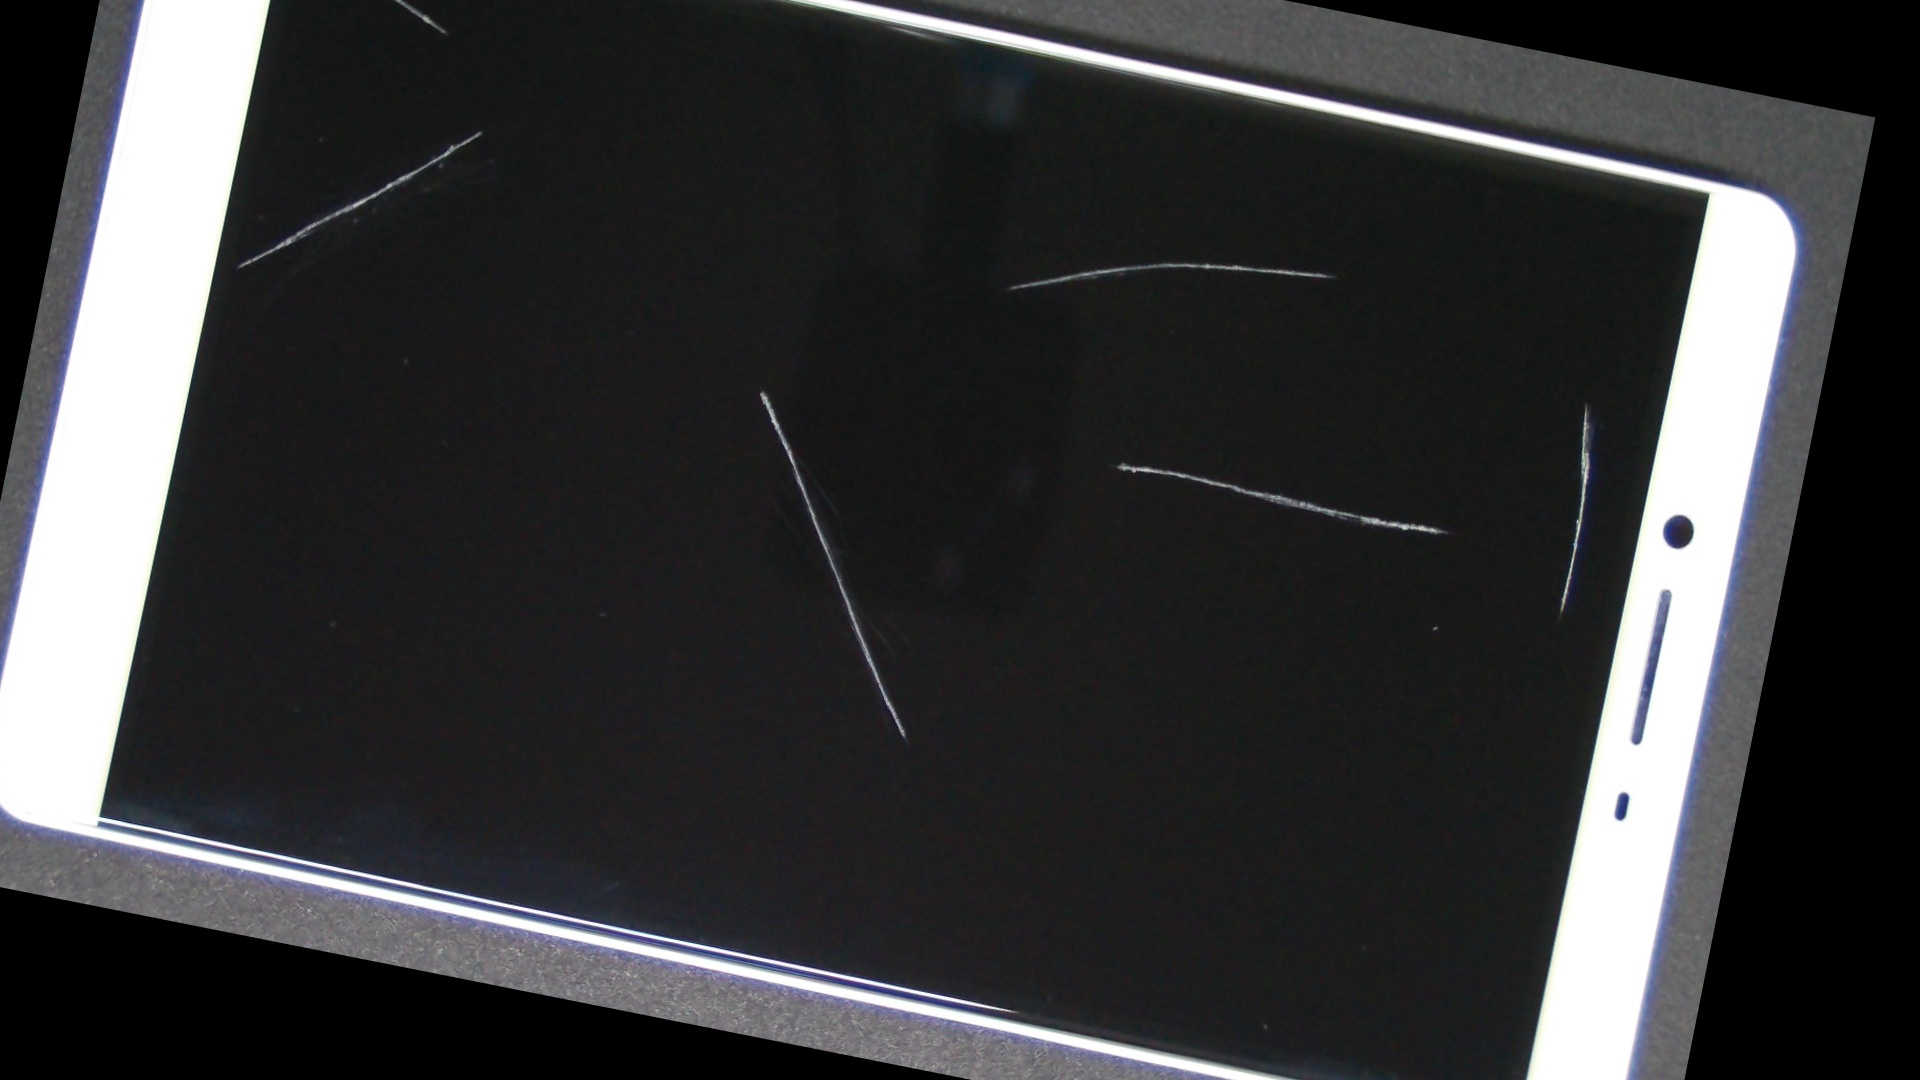oil: (563, 120, 1772, 815), (682, 22, 1850, 500), (799, 84, 1844, 613), (360, 80, 1164, 696), (258, 0, 705, 307)
